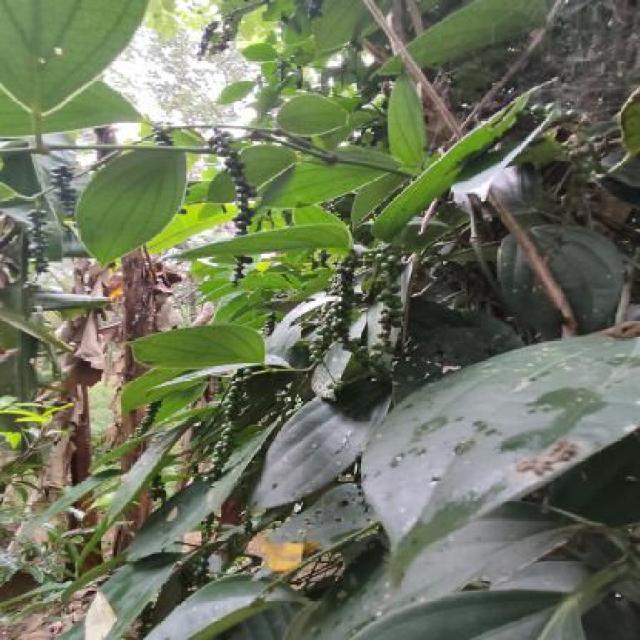UNRIPE: (209, 133, 256, 287), (306, 250, 360, 370), (202, 371, 250, 482), (368, 246, 404, 368), (566, 114, 599, 198), (24, 209, 51, 274), (50, 168, 79, 228), (190, 514, 213, 585), (138, 399, 161, 433), (152, 125, 178, 144)
